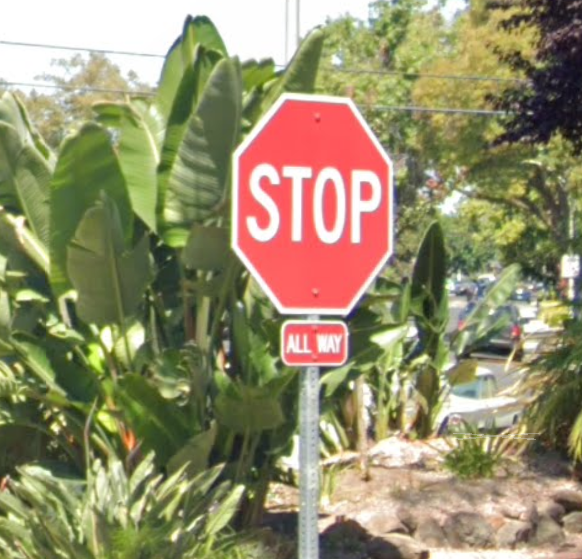stop_sign: (236, 96, 392, 311)
